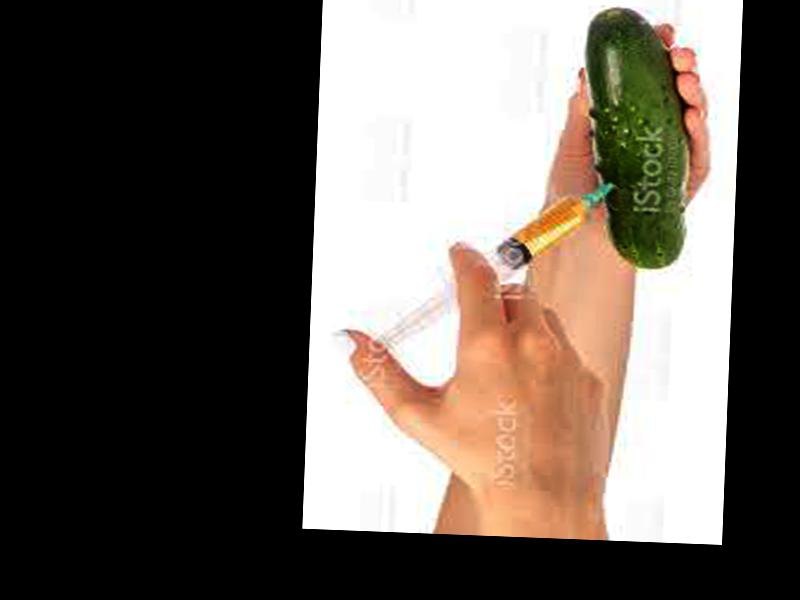Cucumber: (578, 4, 688, 269)
